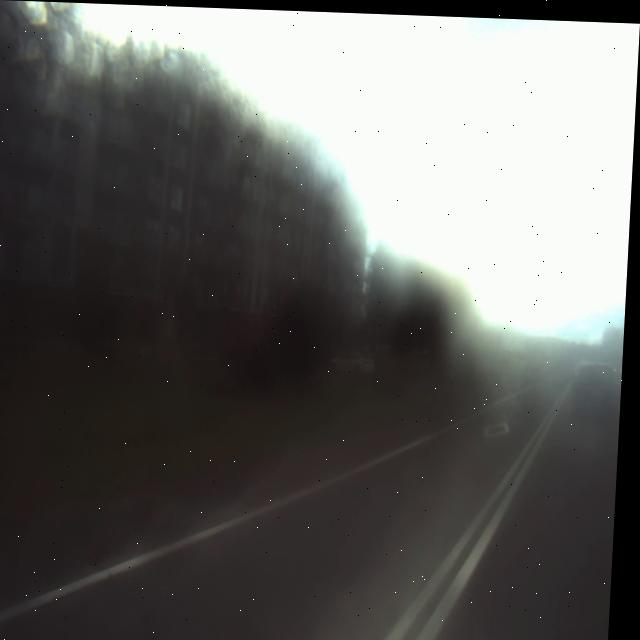car: (575, 349, 625, 423)
